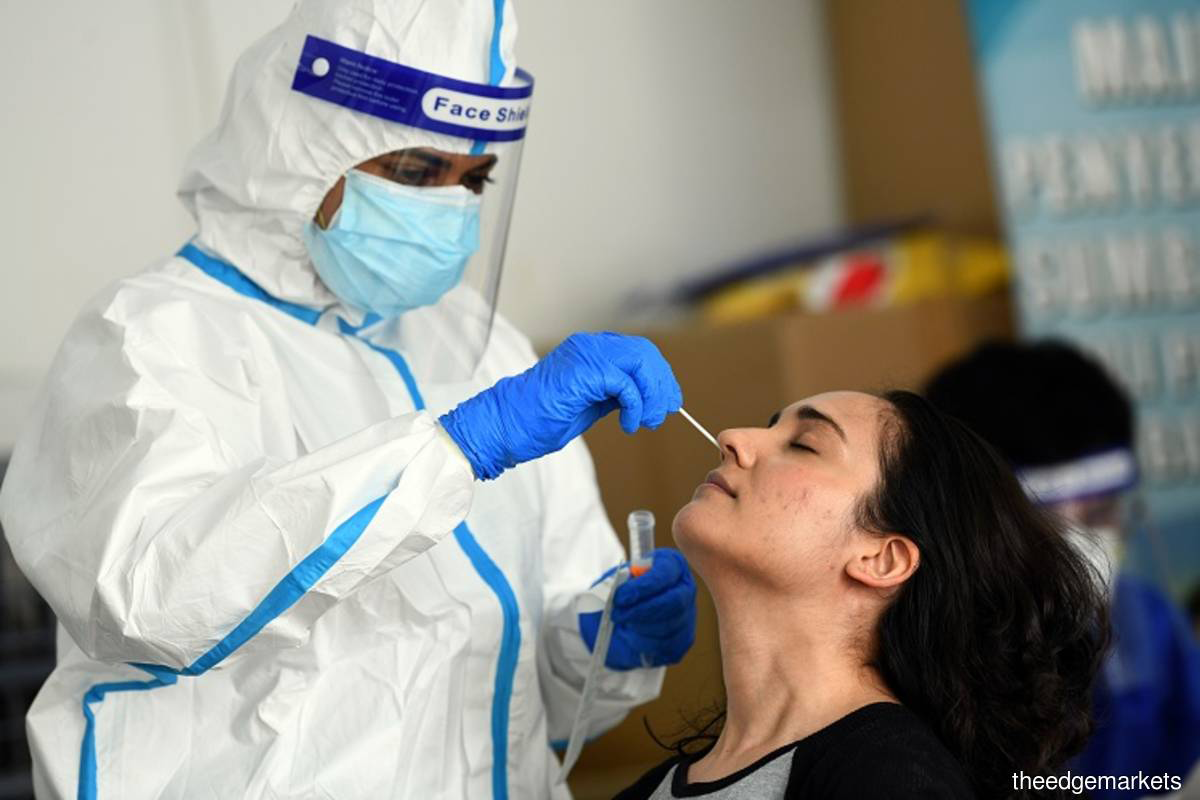Coverall: (69, 1, 616, 800)
Gloves: (432, 320, 689, 488)
with_mask: (307, 151, 490, 310)
without_mask: (668, 365, 906, 626)
